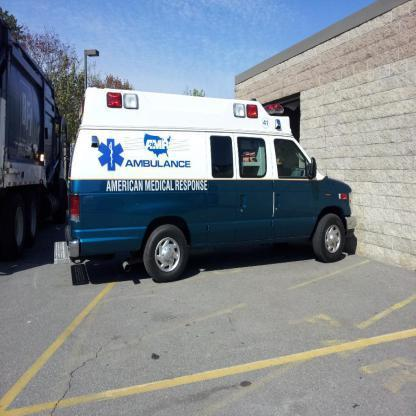ambulance_off: (64, 88, 351, 282)
